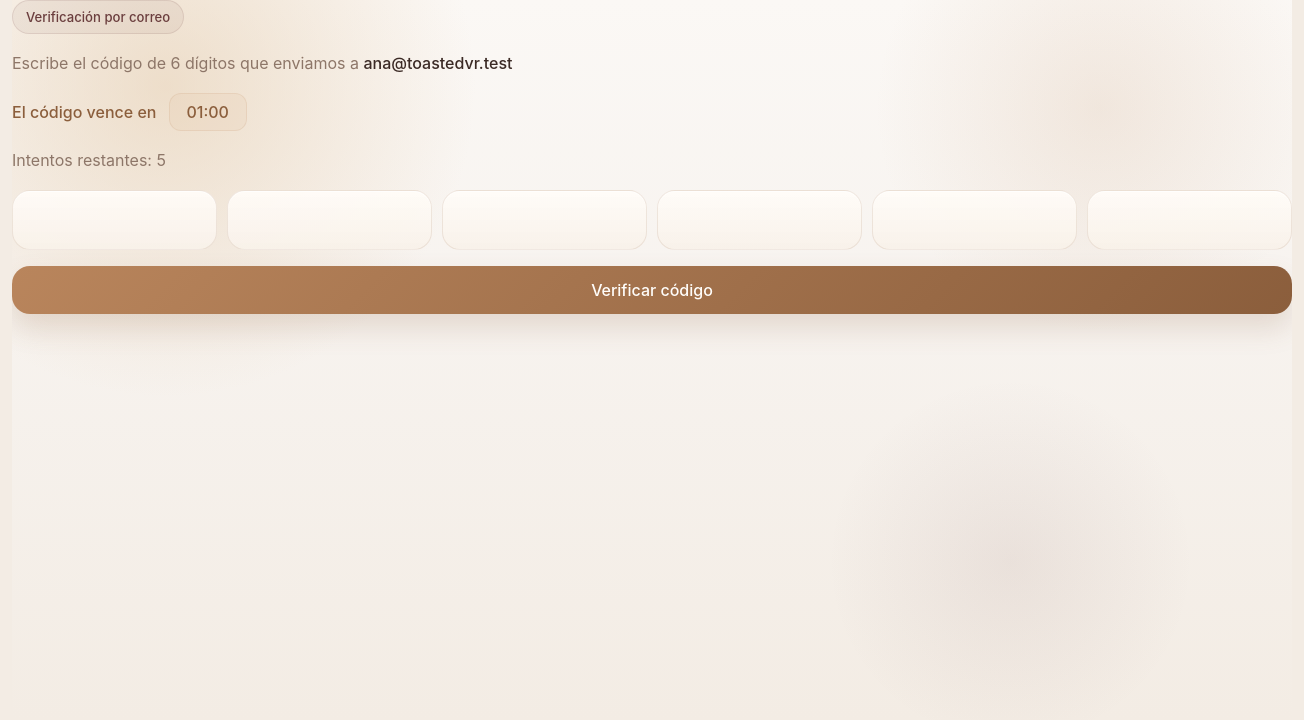
Test: VerificationForm › shows an incomplete code under the code field and clears it when typing
Click the button "Verificar código".
click(652, 290)  # box x1=12 y1=266 x2=1292 y2=314
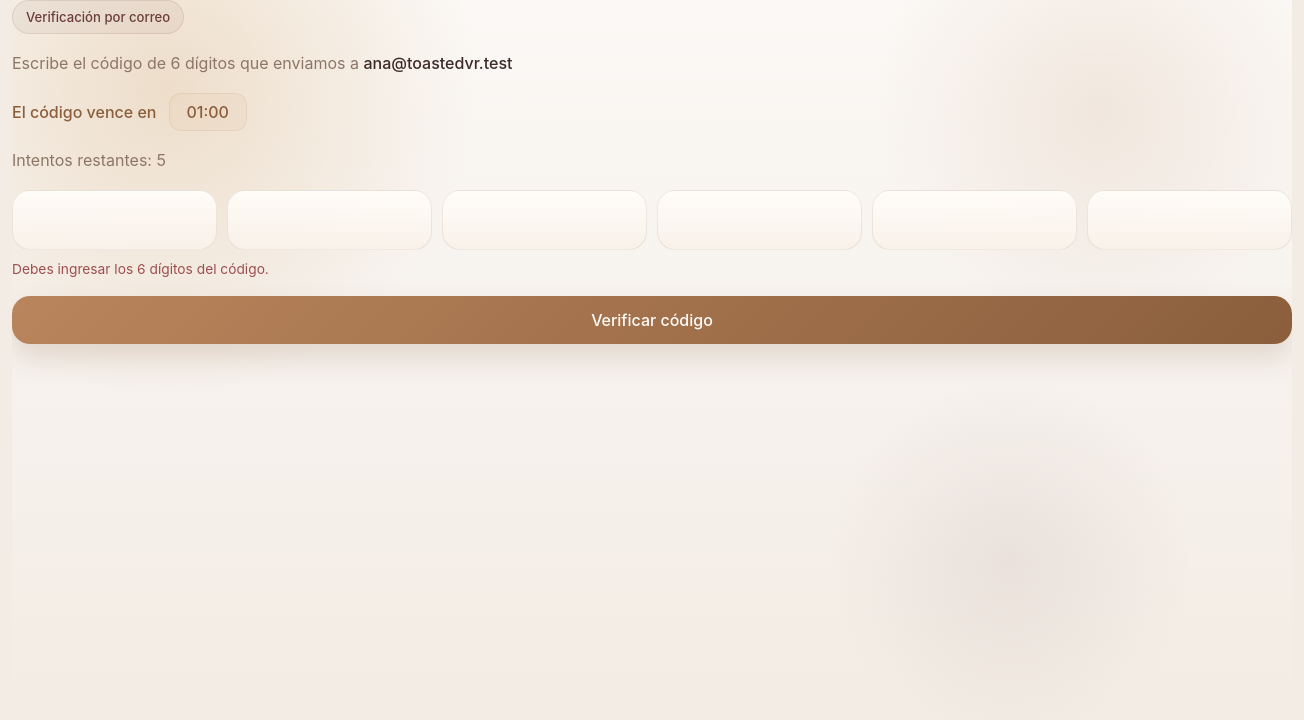
Check: the message reads "Debes ingresar los 6 dígitos del código.", box x1=12 y1=261 x2=269 y2=277
Type "1" into the field named "Dígito 1 del código".
click(114, 220); type("1")  # box x1=12 y1=190 x2=217 y2=250
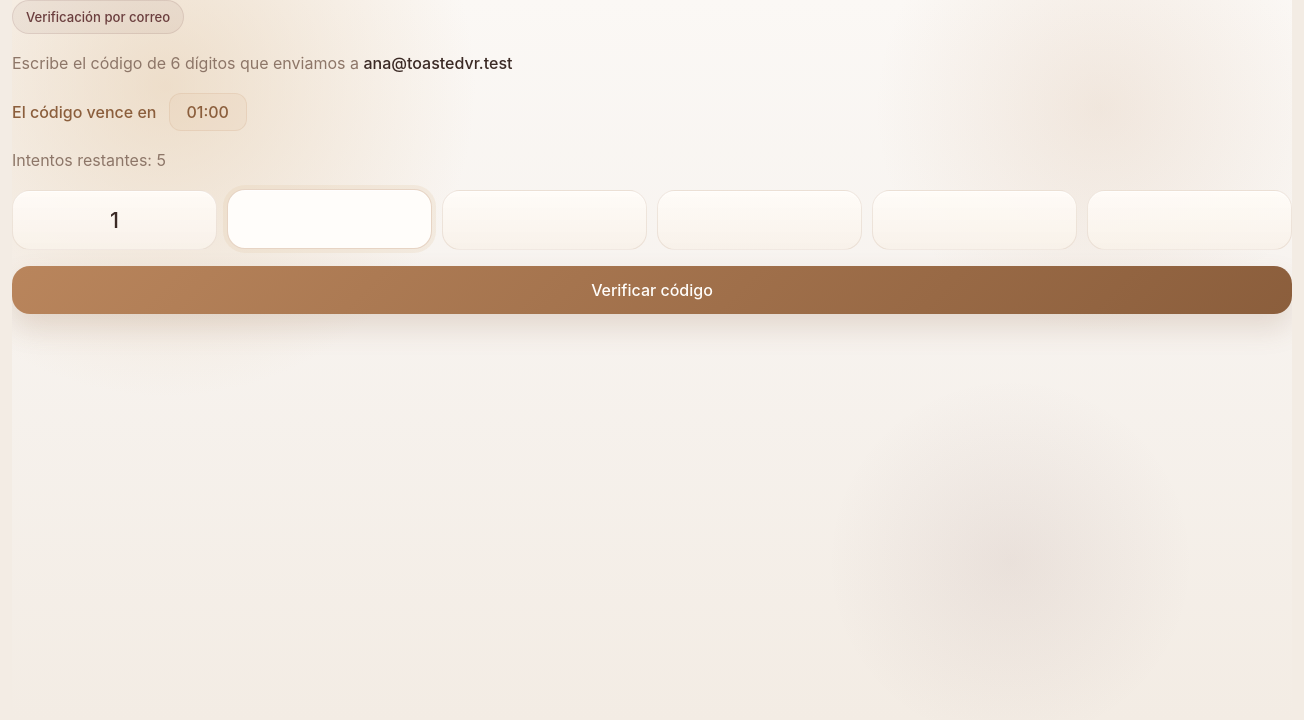
Check: the message "Debes ingresar los 6 dígitos del código." is gone
